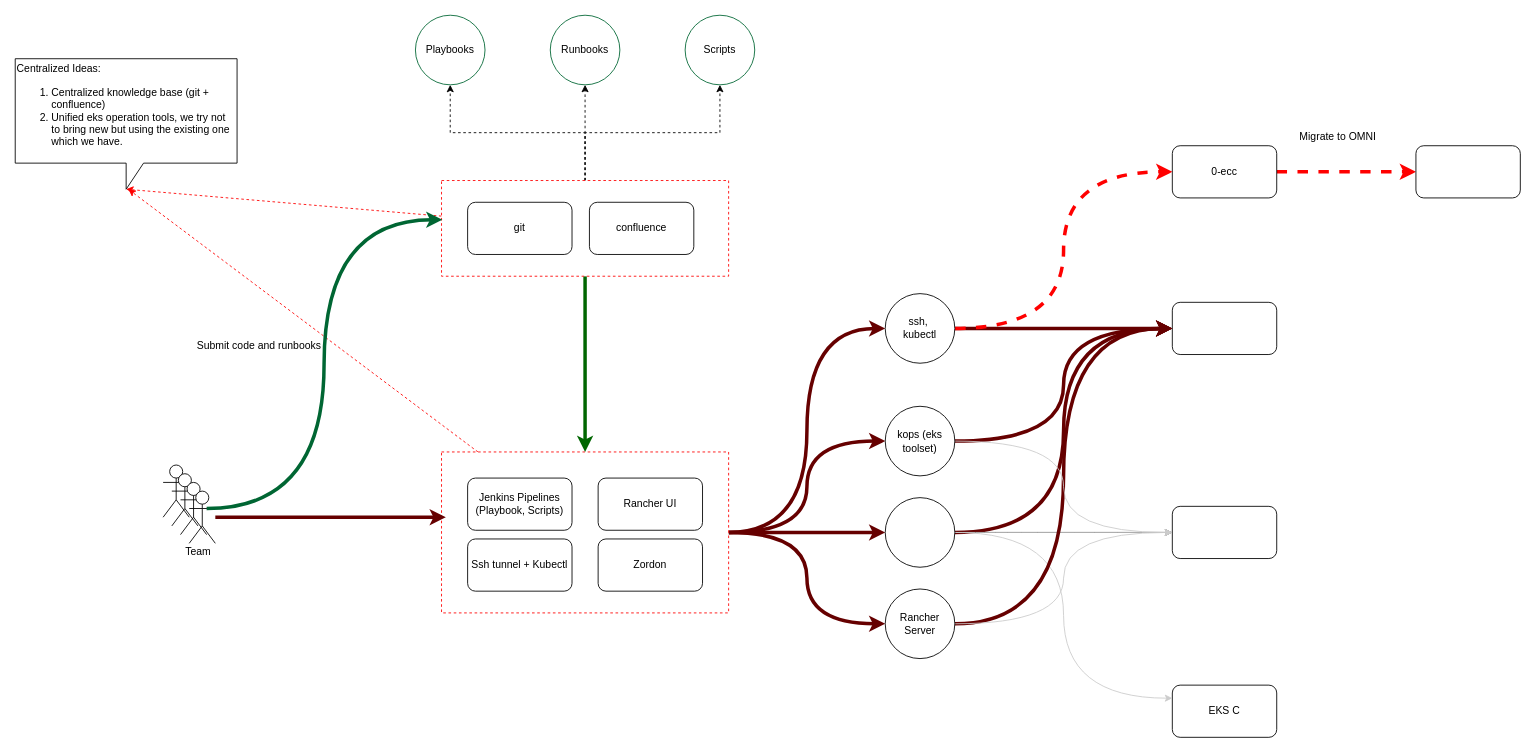
Some shapes in this 1536 by 753 pixel diagram are drawn without their labels. The shapes that lost their labels are listed below. From the top down, each one's centre as x and y in pixels, then its label:
At point (1467, 171): "OMNI Infra cluster".
At point (1224, 328): "EKS A".
At point (919, 532): "AWS Api".
At point (1224, 532): "EKS B".
